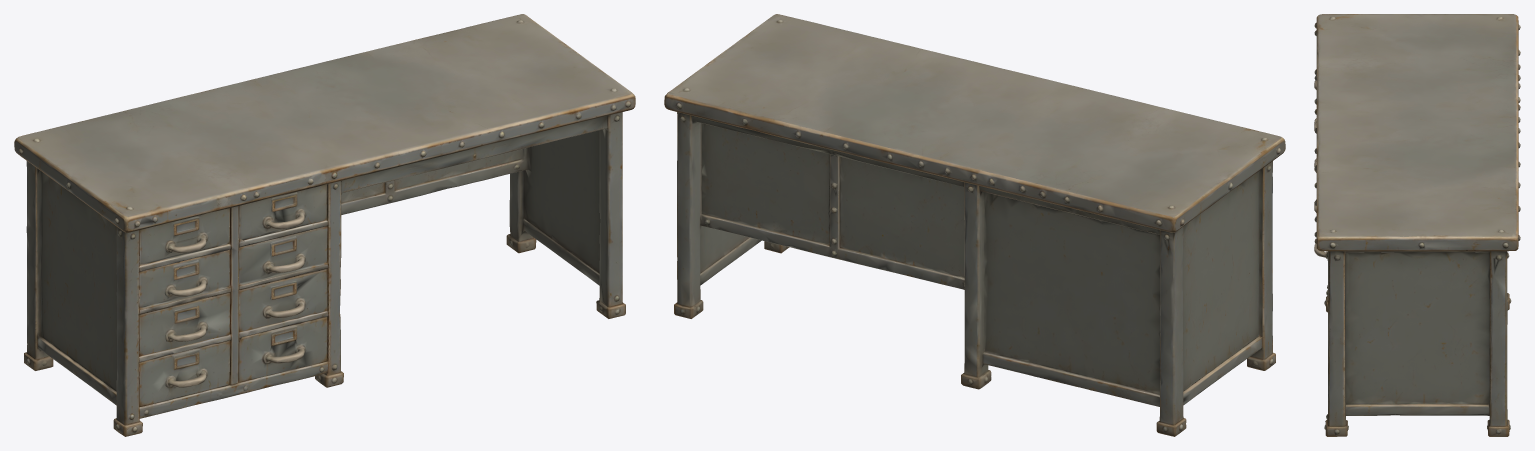
The model's file is SM_Metal_Desk.fbx.
3 renders of one model, left to right at view 1: azimuth 30°, elevation 25°; view 2: azimuth 150°, elevation 25°; view 3: azimuth 270°, elevation 25°, orthographic. The views are drawn at different scales.
Parts seen in each view (by area): view 1: SM_Metal_Desk; view 2: SM_Metal_Desk; view 3: SM_Metal_Desk.
Part boxes in pixels (x1,y1,x2,y2): SM_Metal_Desk: [14, 14, 635, 436]; SM_Metal_Desk: [664, 14, 1285, 436]; SM_Metal_Desk: [1314, 14, 1520, 436].
Size of the model in its own units: 1.81 by 0.7607 by 0.6983.
Materials: 1 (1 with a texture image).
